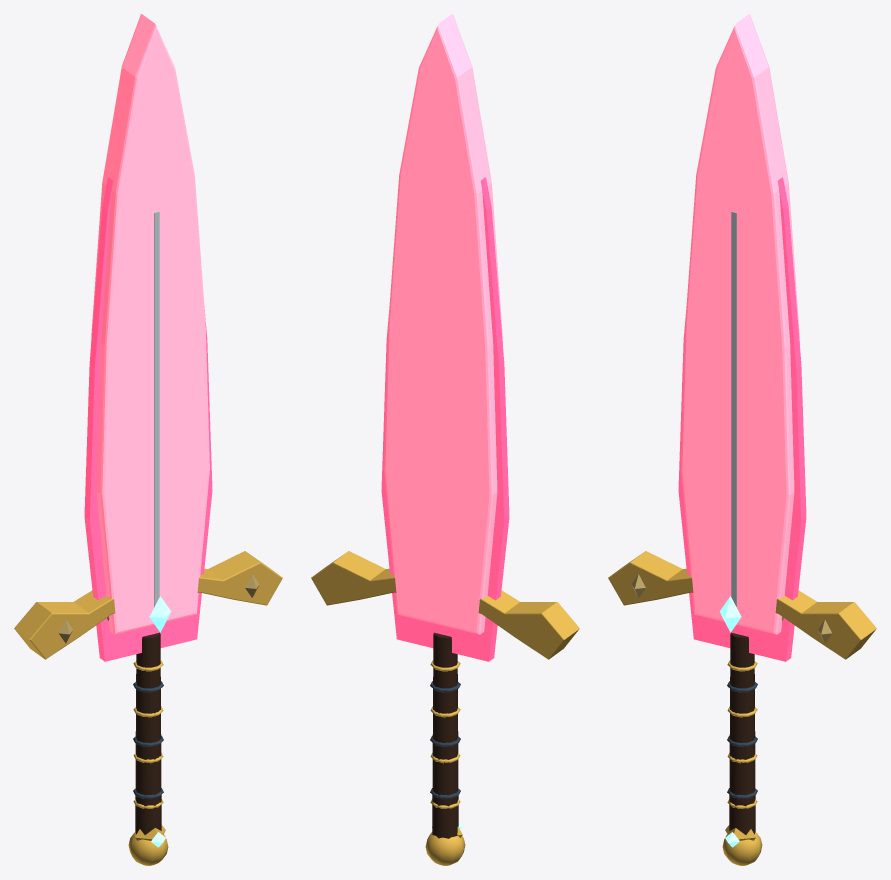
Rendered from greatsword_f6_7fc0a05.glb.
3 renders of one model, left to right at view 1: azimuth 30°, elevation 25°; view 2: azimuth 150°, elevation 25°; view 3: azimuth 330°, elevation 25°, orthographic.
Visible parts, largest first — view 1: m1_ow80_, m0_gm130_, m6_ow80_, m4_ow80_, m2_ow80_; view 2: m1_ow80_, m6_ow80_, m0_gm130_, m4_ow80_; view 3: m1_ow80_, m0_gm130_, m6_ow80_, m4_ow80_, m2_ow80_.
Boxes of the visible parts, box(x1,y1,x2,y2) form: m1_ow80_: box(91, 14, 209, 634); m0_gm130_: box(84, 177, 212, 661); m6_ow80_: box(14, 551, 282, 865); m4_ow80_: box(135, 632, 161, 834); m2_ow80_: box(154, 211, 159, 607); m1_ow80_: box(384, 14, 502, 634); m6_ow80_: box(311, 551, 579, 865); m0_gm130_: box(381, 177, 509, 661); m4_ow80_: box(432, 632, 458, 838); m1_ow80_: box(681, 14, 799, 634); m0_gm130_: box(678, 177, 806, 661); m6_ow80_: box(608, 551, 876, 865); m4_ow80_: box(729, 632, 755, 834); m2_ow80_: box(731, 211, 736, 607).
Size of the model in its own units: 1.17 by 3.73 by 0.2153.
